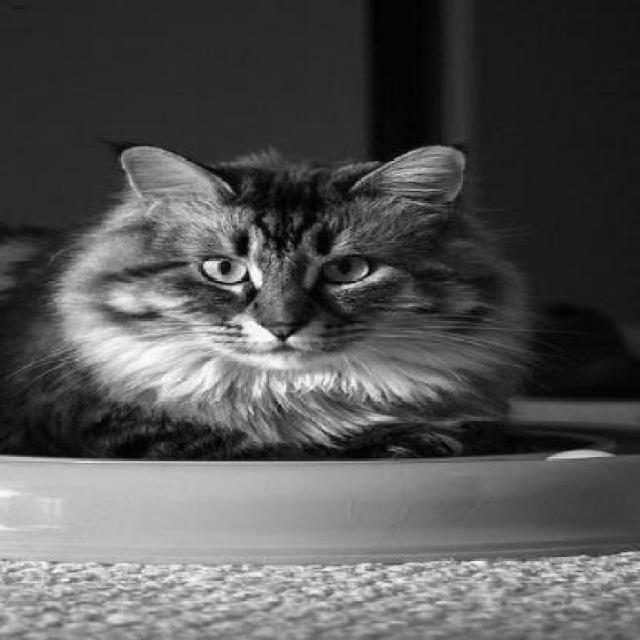Cat: (0, 144, 525, 462)
